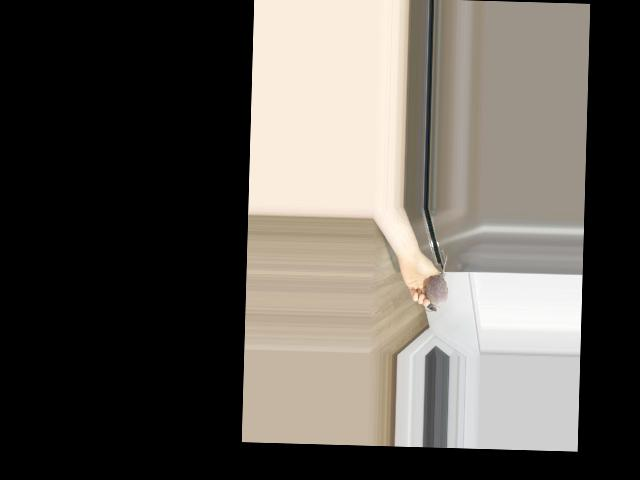beet: (424, 255, 449, 312)
